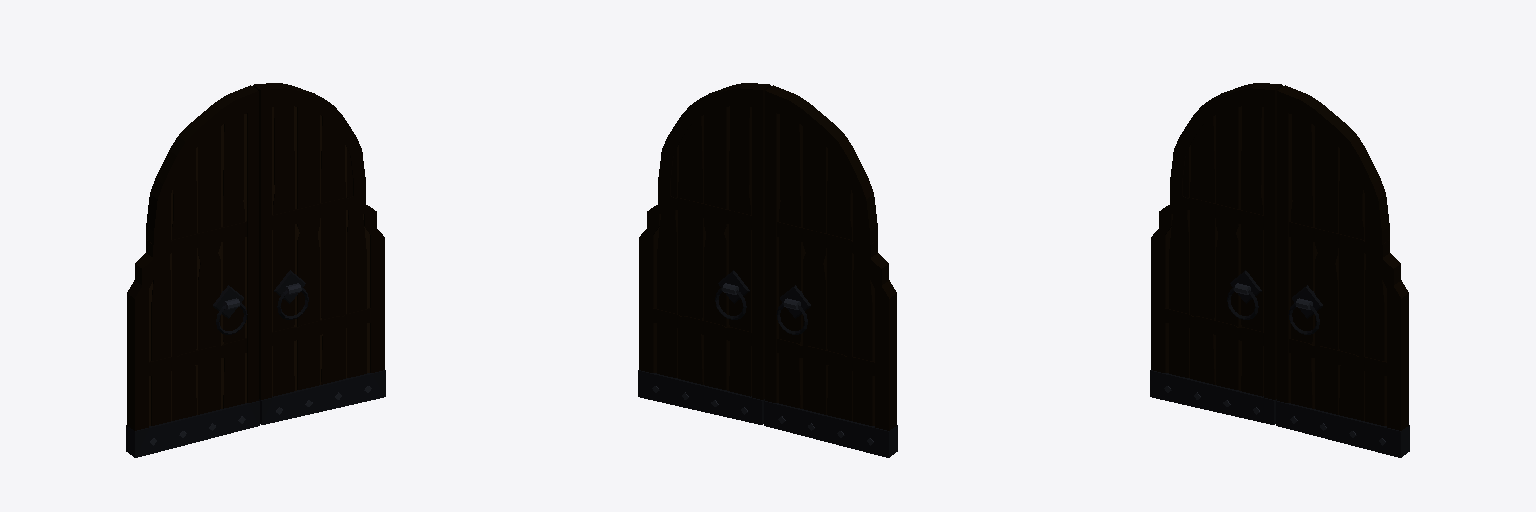
File: Doors_RoundArch.obj
The picture shows the model from 3 angles: view 1: azimuth 30°, elevation 25°; view 2: azimuth 150°, elevation 25°; view 3: azimuth 330°, elevation 25°; orthographic projection.
Visible parts, largest first — view 1: Doors_RoundArch; view 2: Doors_RoundArch; view 3: Doors_RoundArch.
Part boxes in pixels (x1,y1,x2,y2): Doors_RoundArch: (126,83,385,457); Doors_RoundArch: (638,83,897,457); Doors_RoundArch: (1150,83,1409,457).
Size of the model in its own units: 2.31 by 2.97 by 0.2743.